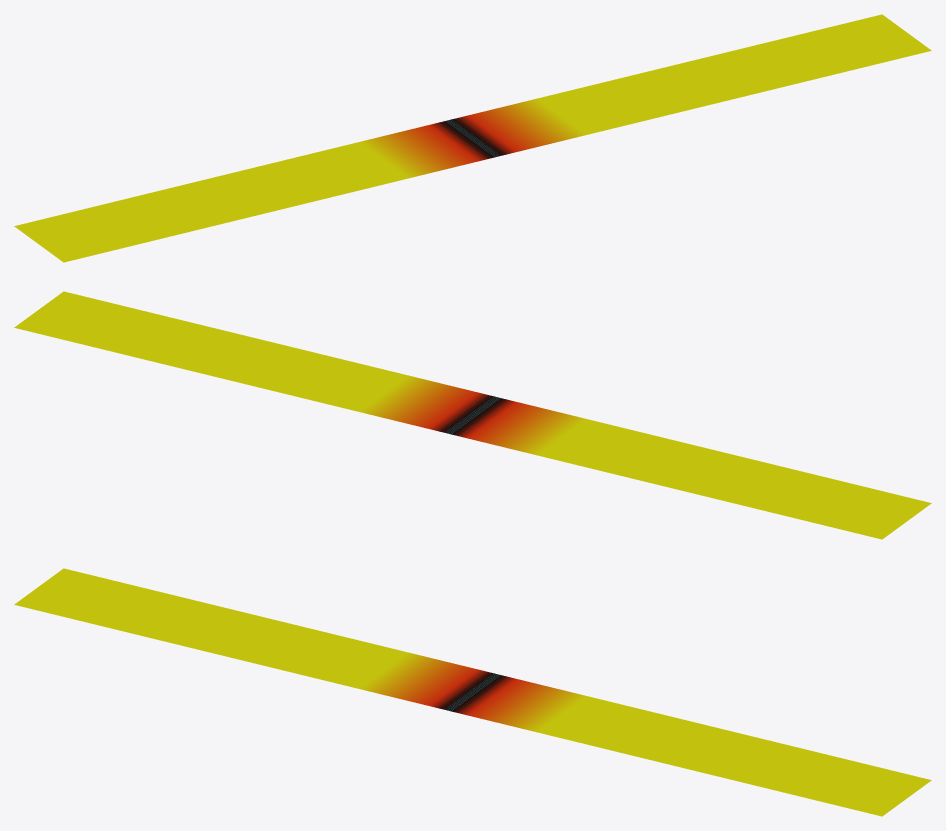
Rendered from SM_Tile_Plain_main.fbx.
3 renders of one model, top to bottom at view 1: azimuth 30°, elevation 25°; view 2: azimuth 150°, elevation 25°; view 3: azimuth 330°, elevation 25°, orthographic.
Visible parts, largest first — view 1: Plane; view 2: Plane; view 3: Plane.
Part boxes in pixels (x1,y1,x2,y2): Plane: (14, 14, 931, 262); Plane: (14, 291, 931, 539); Plane: (14, 568, 931, 816).
Bounding box in the file's own units: 5040 × 2.2 × 500.
